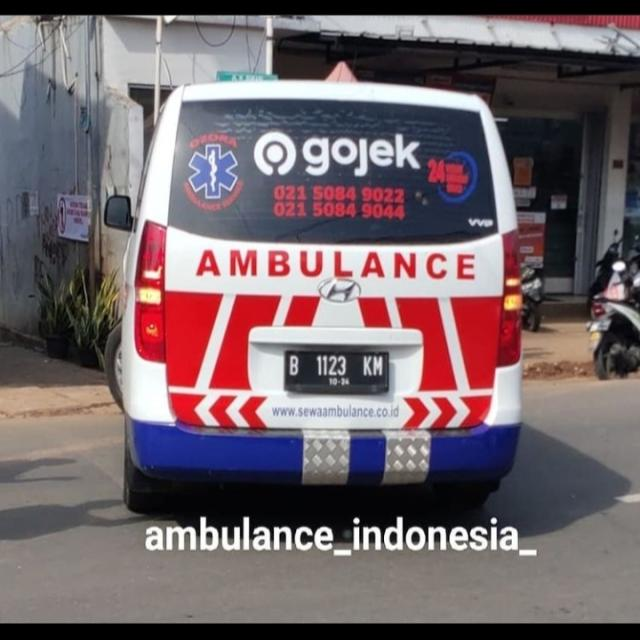emergency-vehicle: (111, 81, 541, 502)
